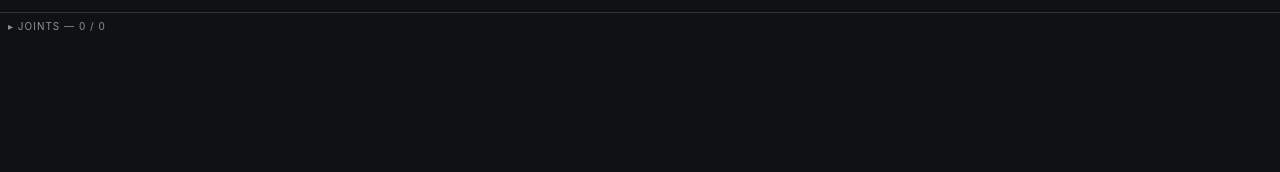
Scenario: no-offer pairs live in their own section, closed by default
What coordinates should you click on to do the following:
click the button "▸ Joints — 0 / 0"
I would click on:
 (46, 26)
Its box is [8,13,1272,40].
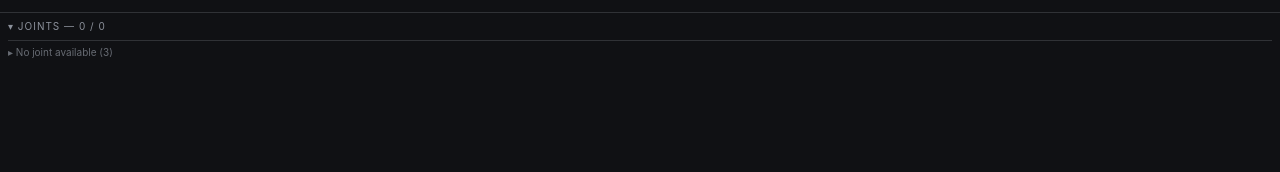
Check: the text "Left Side + Bottom" is not shown
Check: the button "▸ No joint available (3)" is shown
What coordinates should you click on to do the following:
click the button "▸ No joint available (3)"
I would click on:
 (56, 52)
Its box is [8,41,1272,64].
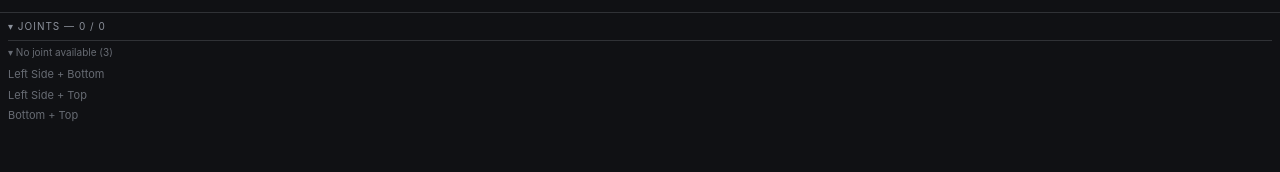
Check: the text "Left Side + Bottom" is shown, box [8,67,104,81]
